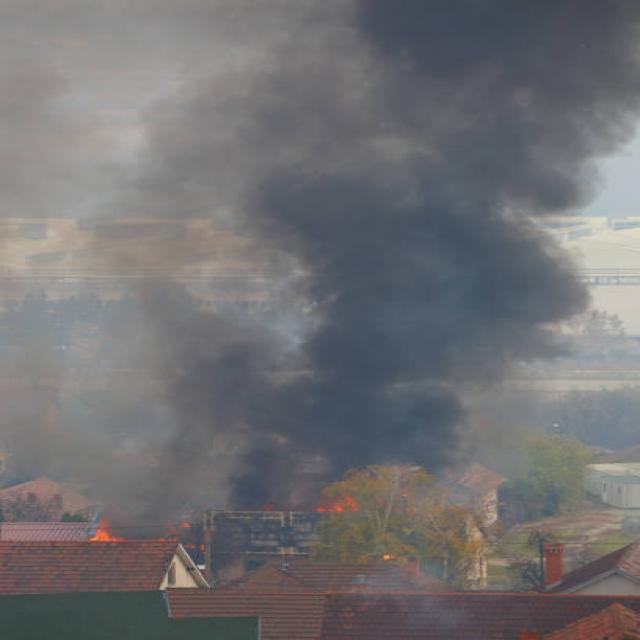Fire: (90, 515, 205, 543), (311, 492, 362, 513)
Smoke: (174, 0, 624, 508)
